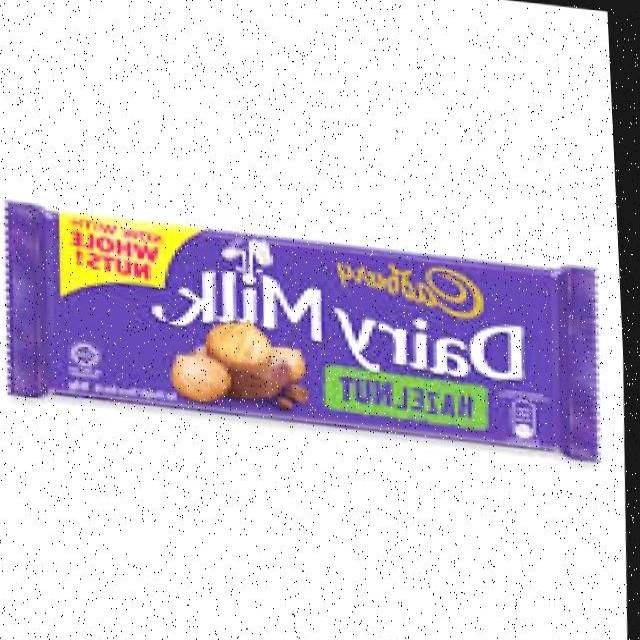cadbury_chocolate: (28, 208, 597, 464)
